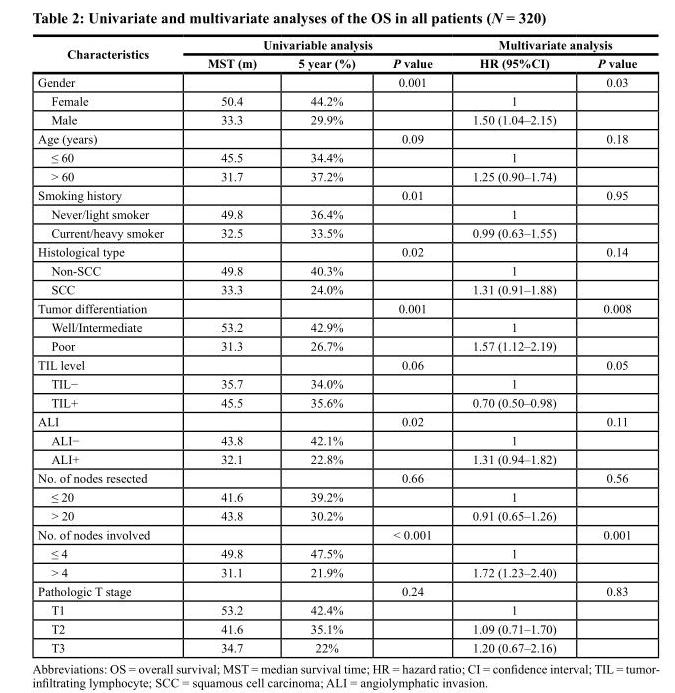table: (37, 37, 636, 654)
table column: (37, 37, 184, 654), (451, 37, 576, 654), (276, 37, 373, 654), (184, 37, 276, 654), (373, 37, 451, 654), (576, 37, 636, 654)
table column header: (37, 37, 636, 72)
table row: (37, 53, 636, 72), (37, 72, 636, 91), (37, 109, 636, 128), (37, 128, 636, 147), (37, 147, 636, 166), (37, 166, 636, 185), (37, 185, 636, 204), (37, 204, 636, 223), (37, 241, 636, 260), (37, 260, 636, 279), (37, 279, 636, 298), (37, 298, 636, 317), (37, 317, 636, 336), (37, 336, 636, 355), (37, 373, 636, 392), (37, 392, 636, 411), (37, 411, 636, 430), (37, 430, 636, 449), (37, 449, 636, 468), (37, 468, 636, 487), (37, 505, 636, 524), (37, 524, 636, 543), (37, 543, 636, 562), (37, 562, 636, 581), (37, 581, 636, 600), (37, 600, 636, 619), (37, 91, 636, 109), (37, 223, 636, 241), (37, 355, 636, 373), (37, 487, 636, 505), (37, 619, 636, 637), (37, 637, 636, 654), (37, 37, 636, 53)
table spanning cell: (37, 37, 184, 72), (184, 37, 451, 53), (451, 37, 636, 53)
